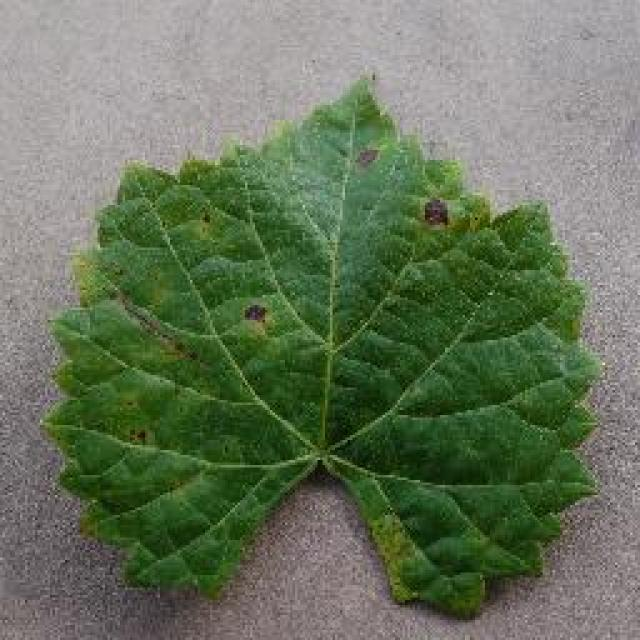Grape___Black_rot: (27, 63, 610, 625)
